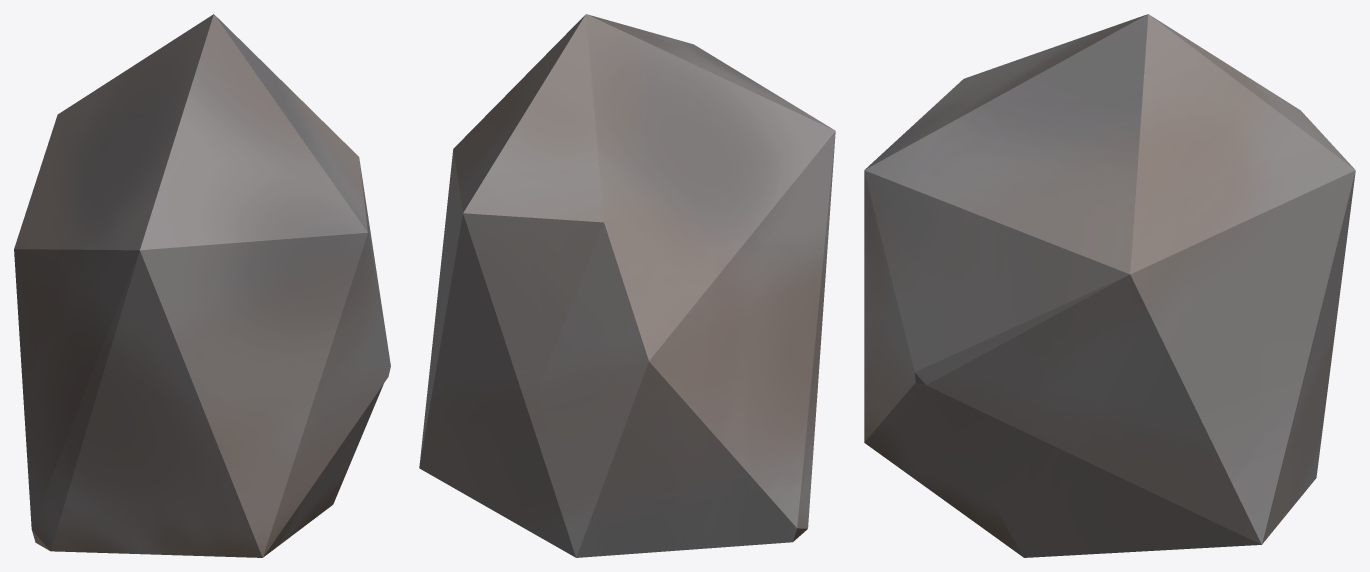
The model's file is pedra.glb.
3 renders of one model, left to right at view 1: azimuth 30°, elevation 25°; view 2: azimuth 150°, elevation 25°; view 3: azimuth 270°, elevation 25°, orthographic. The views are drawn at different scales.
Parts seen in each view (by area): view 1: Rock; view 2: Rock; view 3: Rock.
Part boxes in pixels (x1,y1,x2,y2): Rock: (14,14,390,557); Rock: (419,14,835,557); Rock: (864,14,1355,557).
Size of the model in its own units: 1.73 by 2.38 by 2.03.
Materials: 1 (1 with a texture image).
